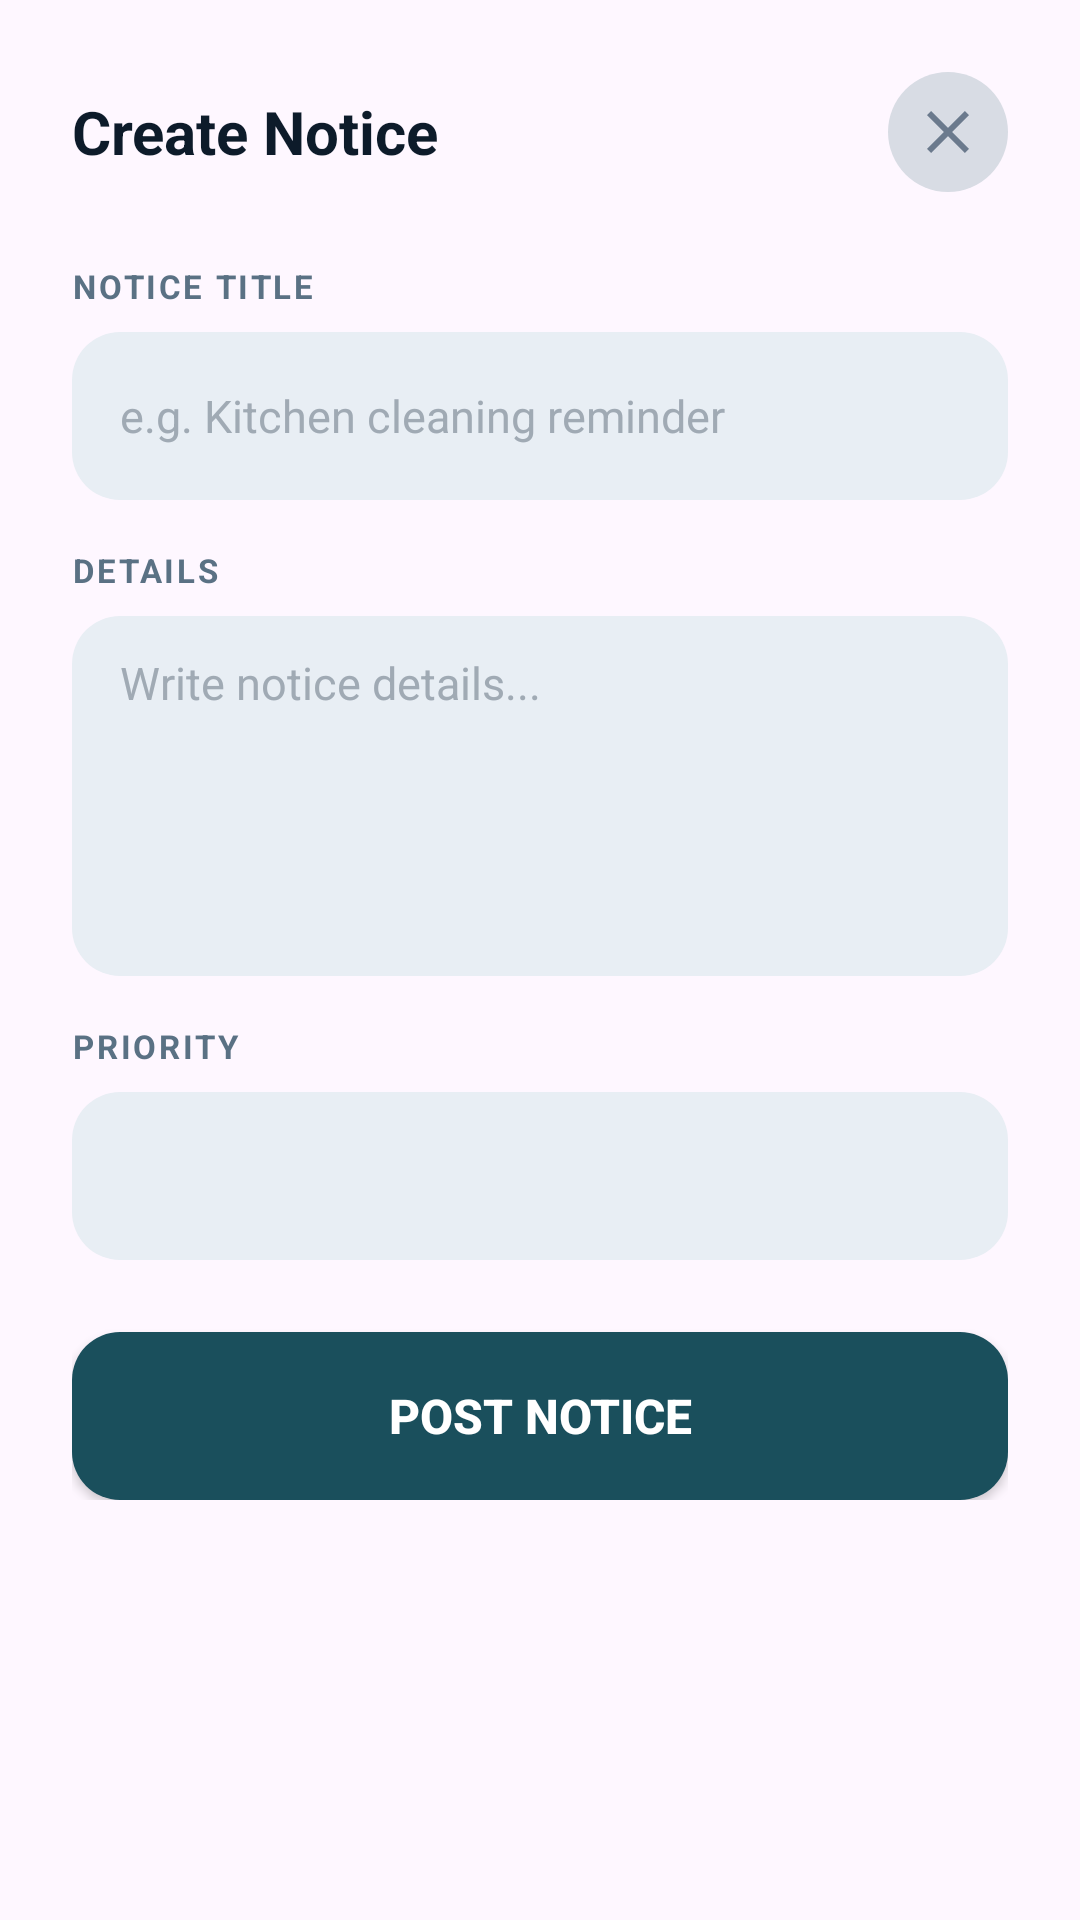

Named icons in this screenshot (1080x1920) and their centers, point (x, y):
Close: point (948, 132)
